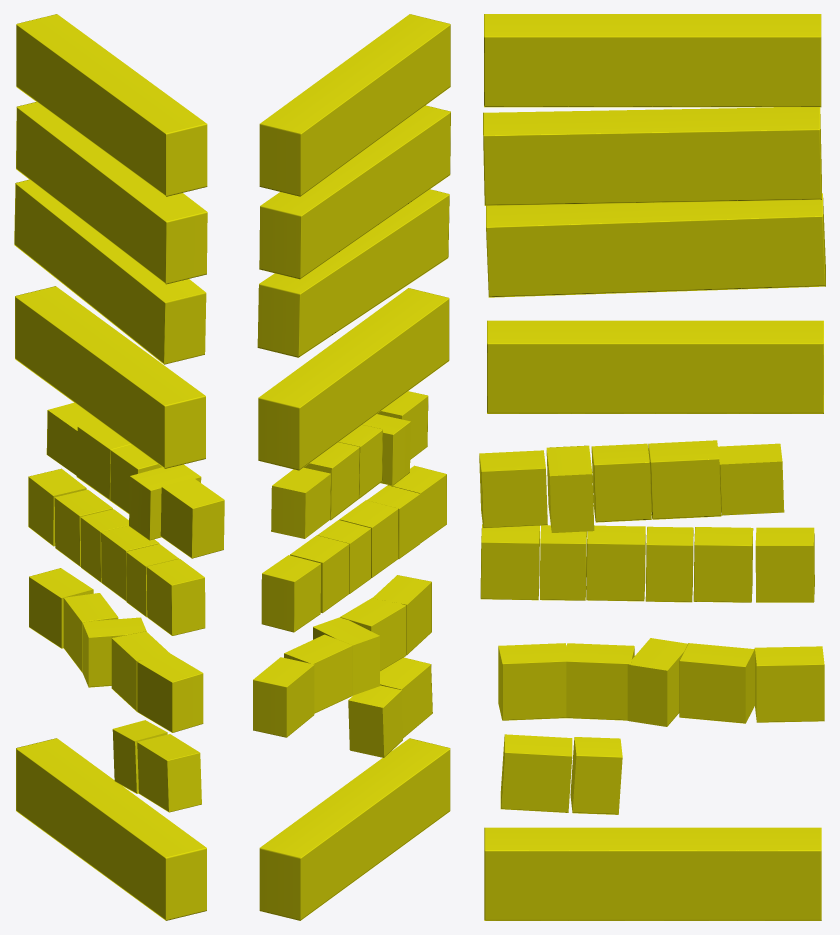
Rendered from Bookcase_03B_Lod0.fbx.
The picture shows the model from 3 angles, left to right: view 1: azimuth 30°, elevation 25°; view 2: azimuth 150°, elevation 25°; view 3: azimuth 270°, elevation 25°; orthographic projection. The views are drawn at different scales.
Parts seen in each view (by area): view 1: Bookcase_03B_Lod0; view 2: Bookcase_03B_Lod0; view 3: Bookcase_03B_Lod0.
Part boxes in pixels (bbox=[...]): Bookcase_03B_Lod0: bbox=[14, 14, 224, 920]; Bookcase_03B_Lod0: bbox=[253, 14, 450, 920]; Bookcase_03B_Lod0: bbox=[479, 14, 825, 920].
Bounding box in the file's own units: 35.46 × 394 × 140.
